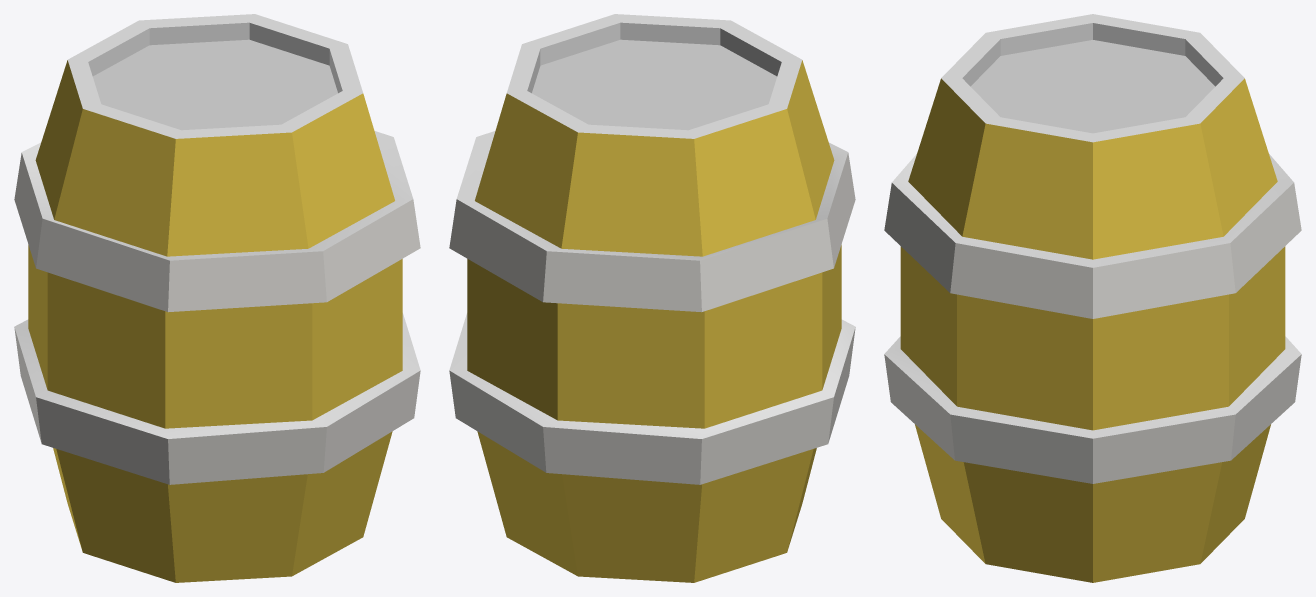
File: drum1.fbx
3 views of the same model, side by side, from view 1: azimuth 30°, elevation 25°; view 2: azimuth 150°, elevation 25°; view 3: azimuth 270°, elevation 25° (orthographic).
Visible parts, largest first — view 1: pCylinder1; view 2: pCylinder1; view 3: pCylinder1.
Boxes of the visible parts, x1,y1,x2,y2 form: pCylinder1: (14, 14, 420, 582); pCylinder1: (449, 14, 855, 582); pCylinder1: (884, 14, 1301, 582).
Bounding box in the file's own units: 4.54 × 5.28 × 4.54.
